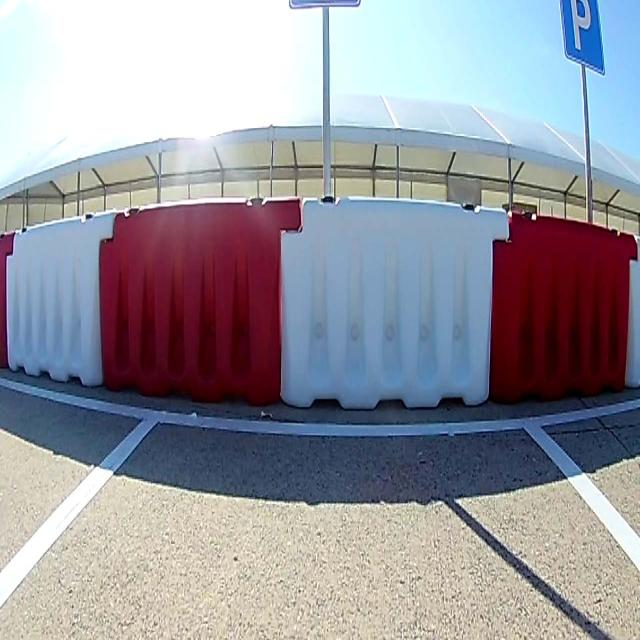park: (561, 2, 605, 73)
